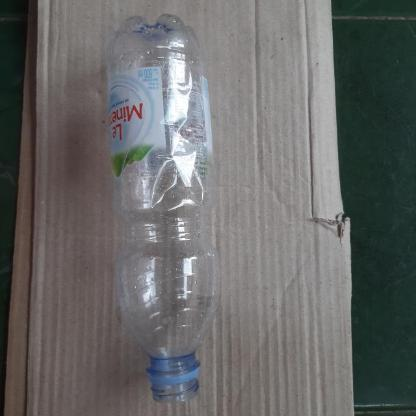Plastic Bottle: (104, 12, 216, 404)
